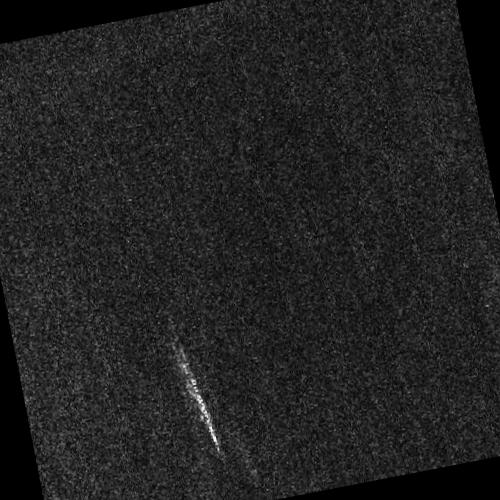ship: (182, 360, 220, 452)
